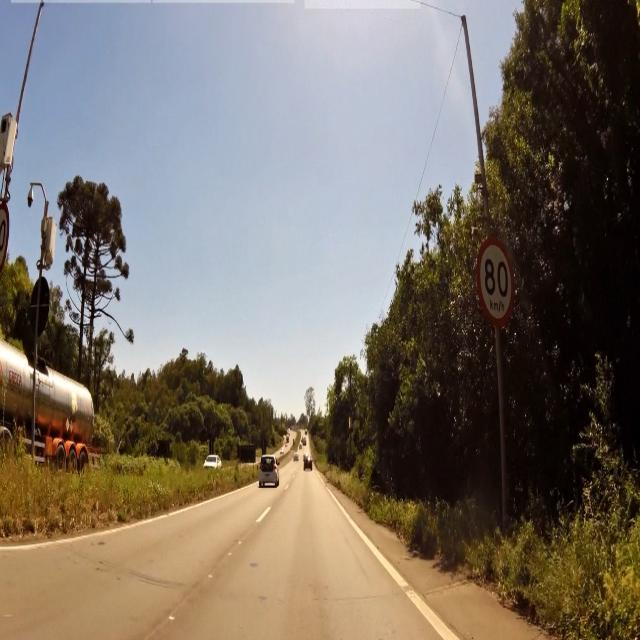R-19: (476, 236, 515, 325)
